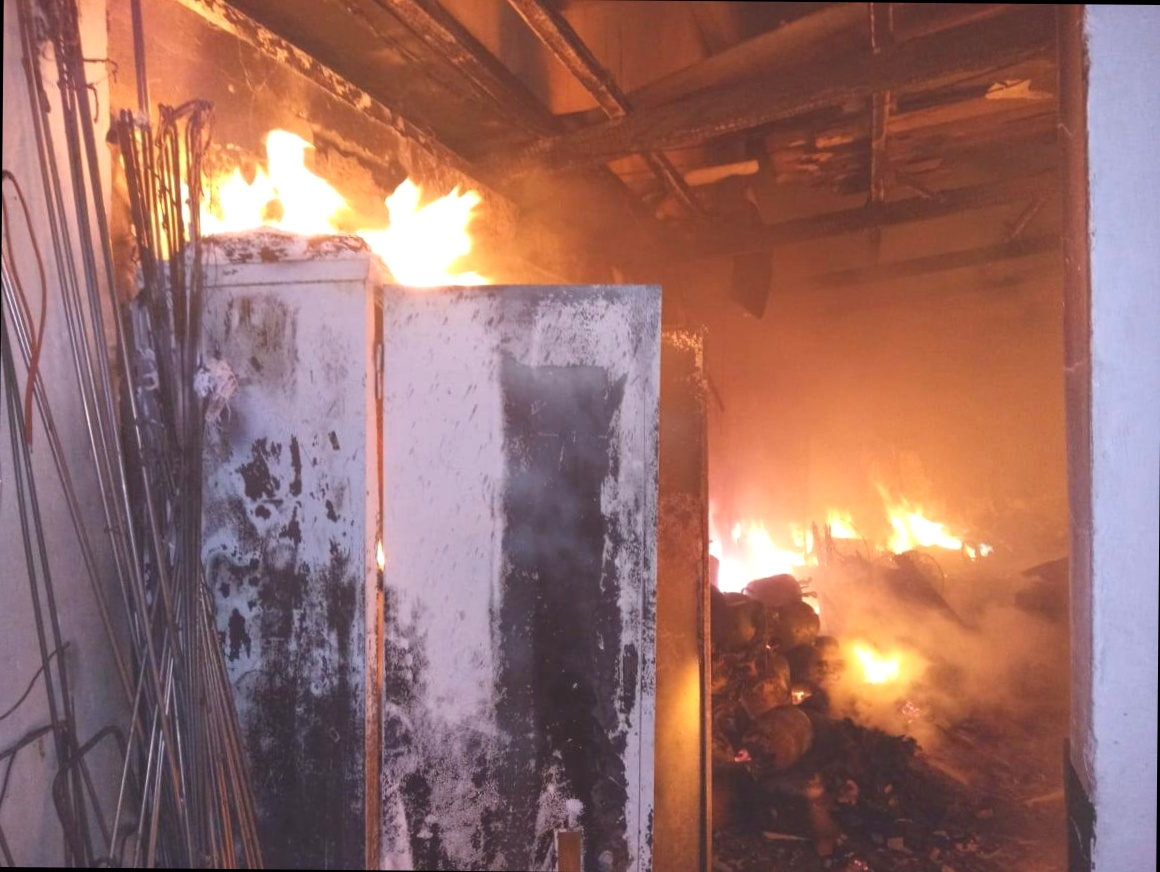fire: (688, 444, 1000, 728), (173, 145, 502, 313)
